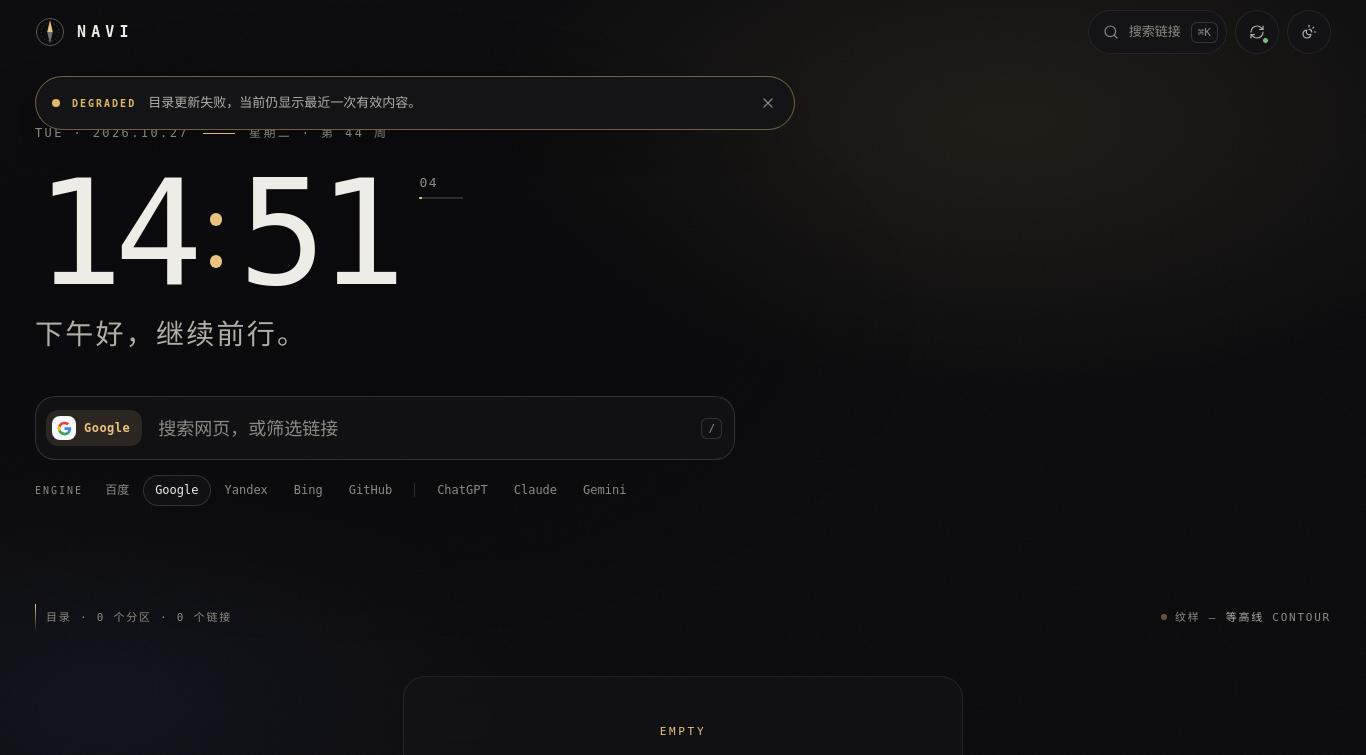
Test: App › shows an empty state and the degraded banner
Expected: the message "DEGRADED 目录更新失败，当前仍显示最近一次有效内容。" is shown, [35,76,795,130]
Click the button named "关闭提示".
click(768, 103)  # box [746,81,790,125]
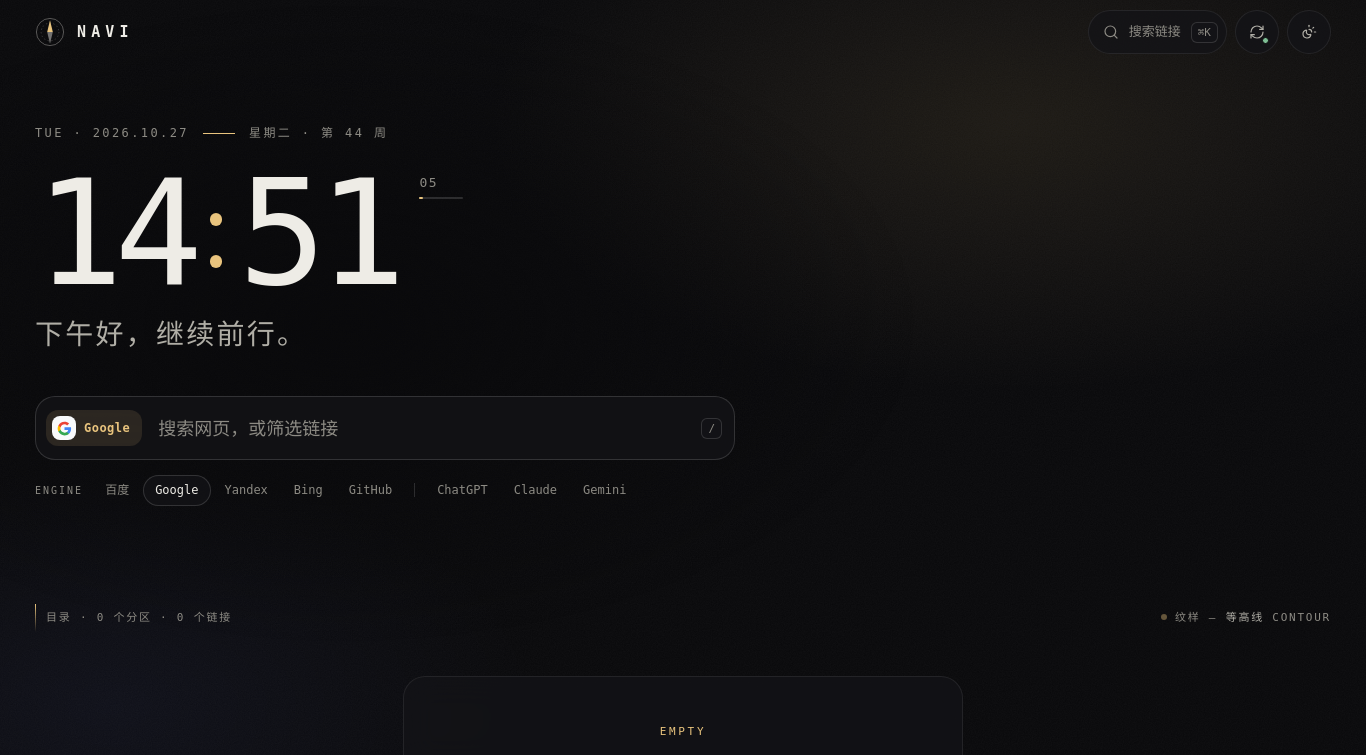
Expected: the message "DEGRADED 目录更新失败，当前仍显示最近一次有效内容。" is gone
